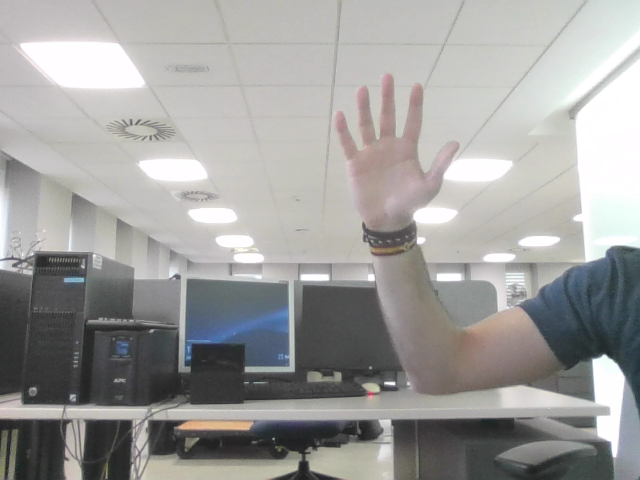Mano Abierta: (344, 85, 446, 199)
